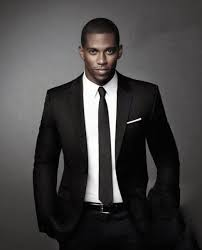black_male: (75, 14, 129, 88)
